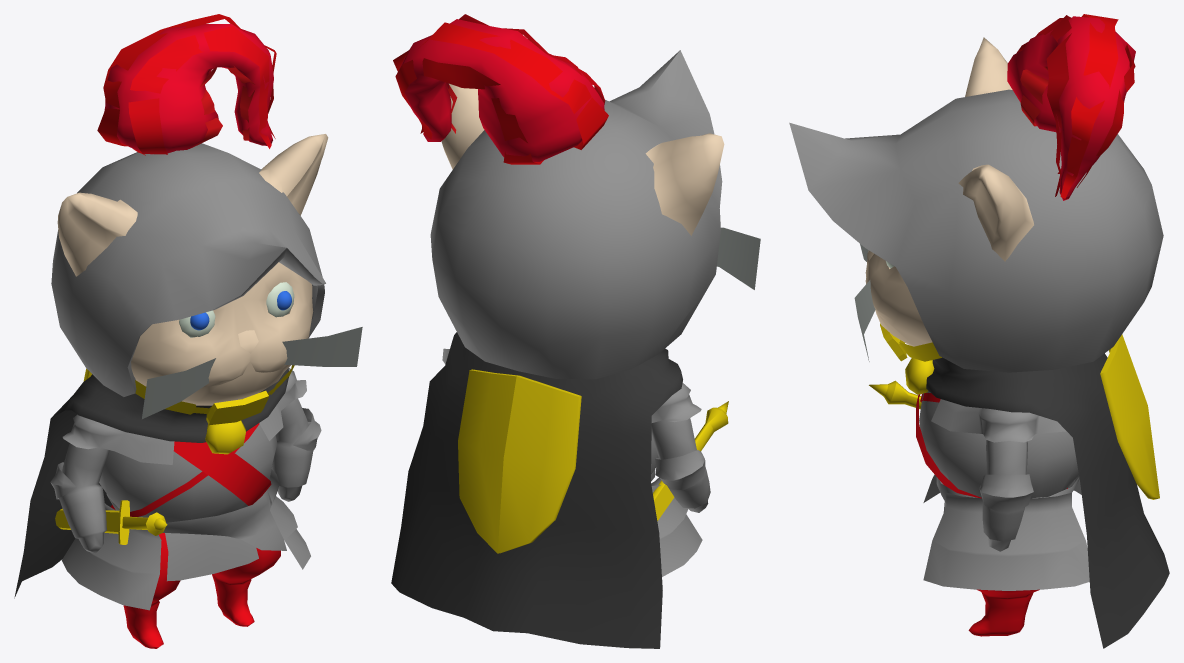
The model's file is chat.glb.
3 renders of one model, left to right at view 1: azimuth 30°, elevation 25°; view 2: azimuth 150°, elevation 25°; view 3: azimuth 270°, elevation 25°, orthographic. The views are drawn at different scales.
Parts seen in each view (by area): view 1: pCube1, polySurface13, pCube4, polySurface20, polySurface1, polySurface31, polySurface18, pPlane1, polySurface11, polySurface27, polySurface23, polySurface12 (+11 smaller); view 2: pCube1, pCube4, pCube5, polySurface20, polySurface13, polySurface22, polySurface27, polySurface19, polySurface31, pPlane1, pCube6, polySurface23 (+1 smaller); view 3: pCube1, pCube4, polySurface30, polySurface13, polySurface20, polySurface1, pCube5, polySurface32, polySurface23, polySurface22, polySurface11, polySurface18 (+7 smaller).
Boxes of the visible parts, box(x1,y1,x2,y2) form: pCube1: box(51, 143, 325, 396); polySurface13: box(57, 134, 328, 405); pCube4: box(14, 368, 288, 598); polySurface20: box(104, 24, 273, 154); polySurface1: box(99, 405, 277, 522); polySurface31: box(62, 503, 161, 610); polySurface18: box(128, 26, 271, 154); pPlane1: box(142, 327, 362, 419); polySurface11: box(110, 505, 280, 648); polySurface27: box(50, 443, 109, 553); polySurface23: box(62, 367, 306, 464); polySurface12: box(165, 533, 258, 581); pCube1: box(430, 50, 722, 379); pCube4: box(391, 332, 682, 648); pCube5: box(458, 369, 581, 553); polySurface20: box(398, 19, 604, 161); polySurface13: box(441, 83, 724, 235); polySurface22: box(393, 22, 608, 149); polySurface27: box(651, 418, 710, 512); polySurface19: box(395, 58, 543, 164); polySurface31: box(651, 477, 702, 576); pPlane1: box(717, 227, 760, 289); pCube6: box(653, 401, 728, 520); polySurface23: box(442, 348, 701, 422); pCube1: box(789, 89, 1163, 372); pCube4: box(926, 353, 1169, 648); polySurface30: box(923, 492, 1089, 590); polySurface13: box(865, 37, 1033, 346); polySurface20: box(1007, 16, 1135, 200); polySurface1: box(919, 391, 1078, 498); pCube5: box(1100, 334, 1159, 499); polySurface32: box(979, 440, 1033, 551); polySurface23: box(931, 399, 1066, 442); polySurface22: box(1060, 14, 1118, 198); polySurface11: box(968, 488, 1067, 636); polySurface18: box(1016, 15, 1071, 196).
Size of the model in its own units: 1.55 by 3.12 by 1.78.
